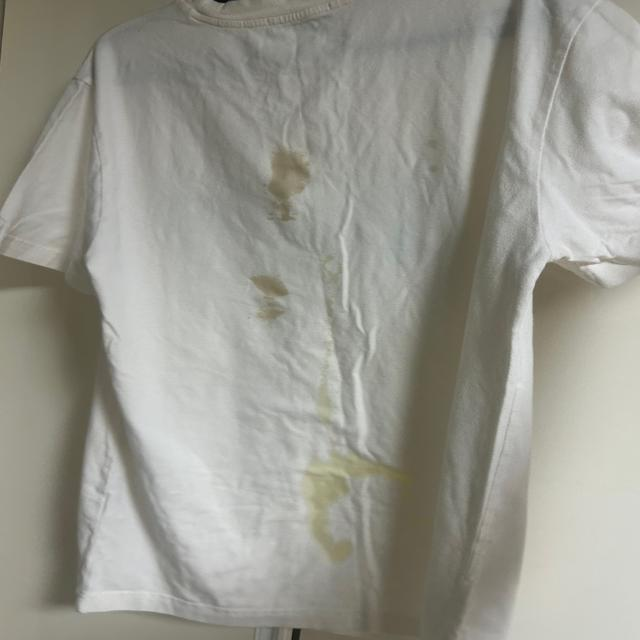stain: (294, 456, 440, 561), (259, 150, 321, 236), (237, 273, 292, 328), (308, 352, 348, 427), (318, 255, 345, 329)
